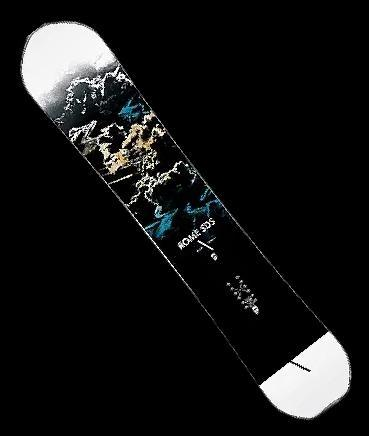Snowboard: (19, 19, 352, 420)
